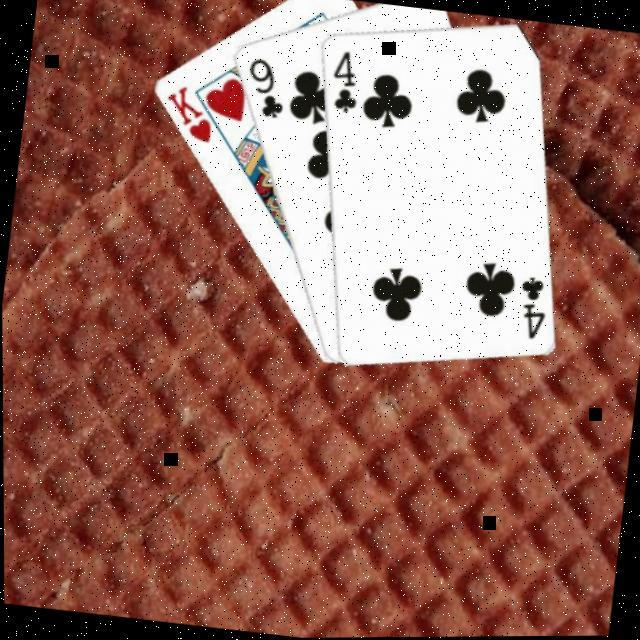4C: (509, 272, 551, 346), (322, 46, 364, 118)
9C: (237, 54, 290, 124)
KH: (156, 80, 217, 148)
